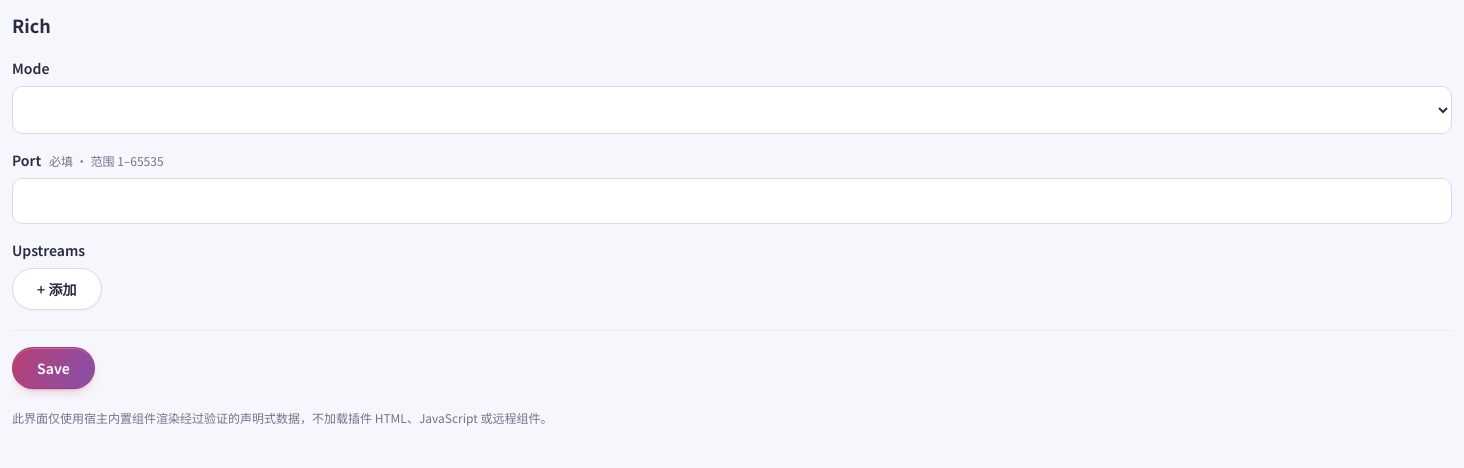
Test case: PluginDeclarativeUI › renders constraint hints and inline validation errors
Type "0" into the number field labelled "Port 必填 · 范围 1–65535" at (732, 201), box [12, 178, 1452, 224]
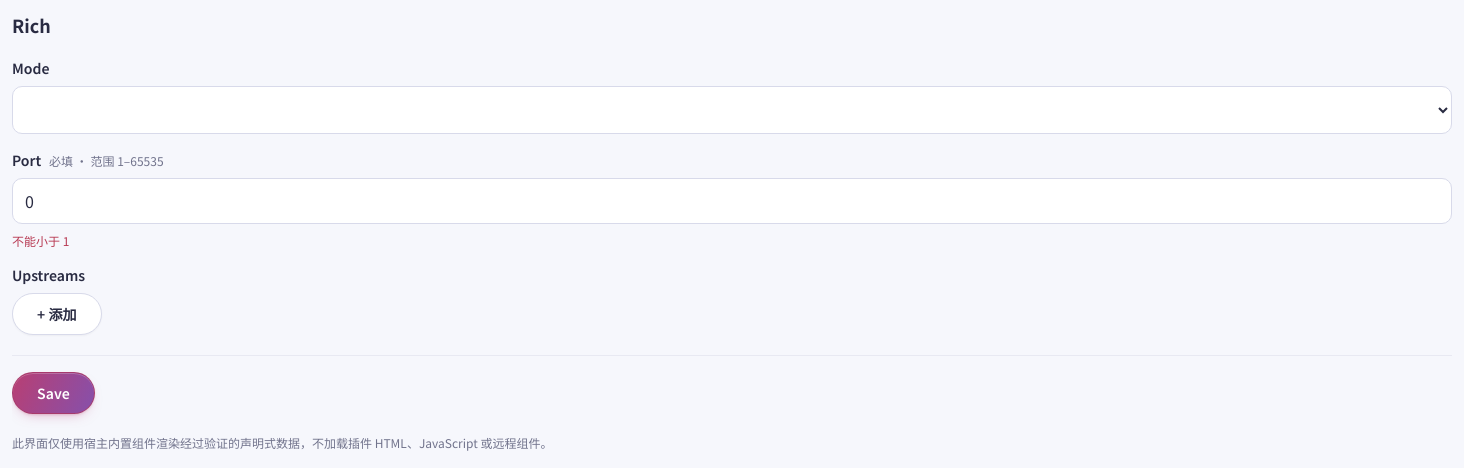
Check: the text "不能小于 1" is shown, box [12, 232, 69, 249]
